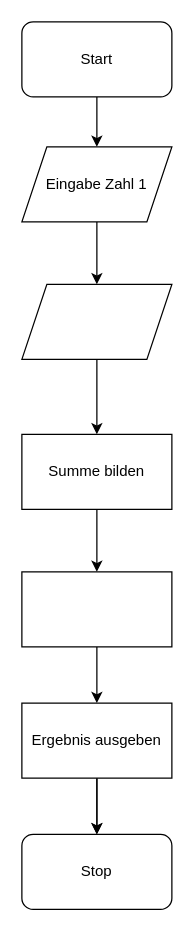
This 194x931 diagram has some shape labels left out. Each missing label, with the box of its shape:
Eingabe Zahl 2: (21, 283, 172, 359)
Summe berechnen: (21, 571, 172, 647)
